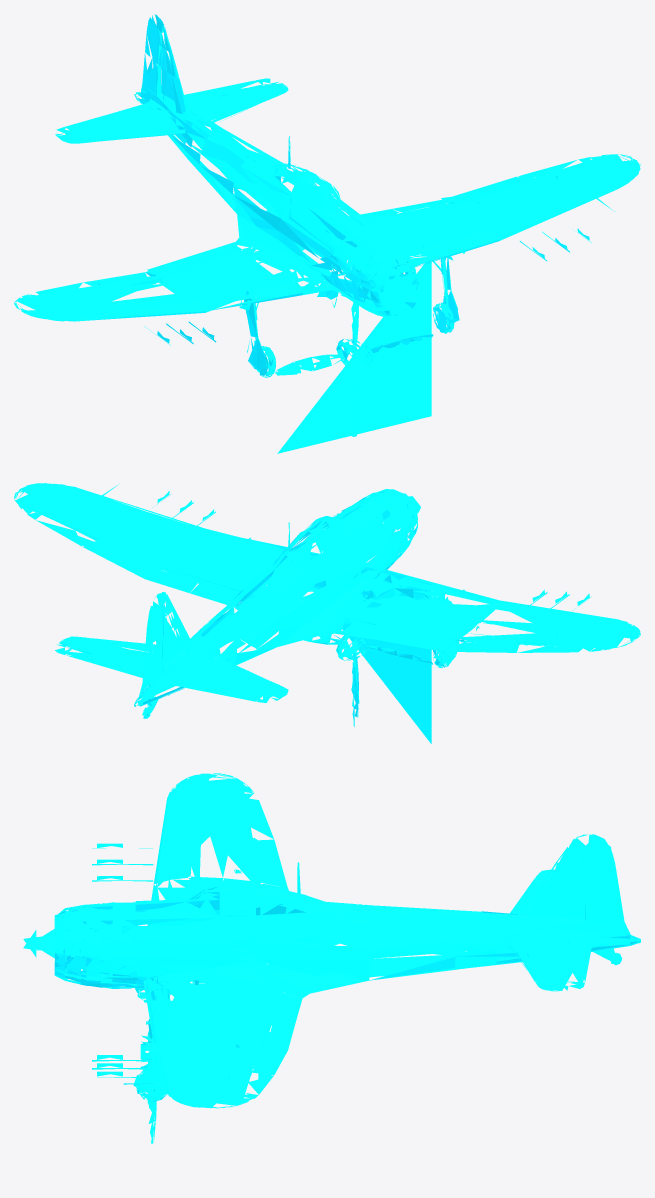
File: PJAD110.glb
3 renders of one model, top to bottom at view 1: azimuth 30°, elevation 25°; view 2: azimuth 150°, elevation 25°; view 3: azimuth 270°, elevation 25°, orthographic. The views are drawn at different scales.
Parts seen in each view (by area): view 1: misc; view 2: misc; view 3: misc.
Part boxes in pixels (box(x1,y1,x2,y2)): misc: box(14, 14, 640, 453); misc: box(14, 483, 640, 743); misc: box(23, 773, 640, 1143).
Bounding box in the file's own units: 0.9272 × 0.4 × 0.7336.
